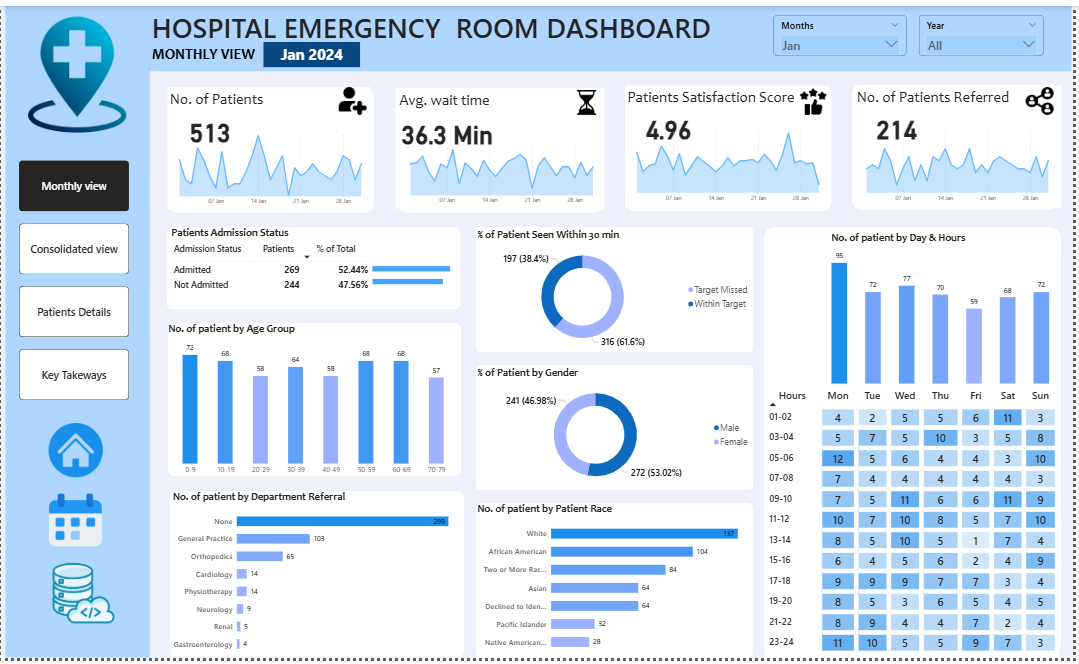

What the dashboard file says about the page in this screenshot:
{"tool":"powerbi","page":{"name":"Monthly view ","canvas":[2300,1400],"ordinal":0},"visuals":[{"type":"card","fields":{"Values":["Avg(Hospital ER_Data.Patient Satisfaction Score)"]},"box":[1341.3,220.8,180,81.5],"z":0,"group":"g3"},{"type":"card","fields":{"Values":["Date Table.No. of Patients Referred"]},"box":[1833.7,220.8,180,81.5],"z":0,"group":"g4"},{"type":"card","fields":{"Values":["Date Table.No. of patient"]},"box":[356.5,224.1,180,81.5],"z":0,"group":"g1"},{"type":"card","fields":{"Values":["Date Table.AVg Wait Time"]},"box":[846.5,232.4,220.7,78.1],"z":0,"group":"g2"},{"type":"shape","box":[1017.8,769.8,599.1,270.6],"z":0},{"type":"textbox","box":[1339.3,172.2,414.3,54.3],"z":1000,"group":"g3"},{"type":"textbox","box":[1834.8,172.2,441.4,57.7],"z":1000,"group":"g4"},{"type":"shape","box":[356.5,173.2,444.8,271.7],"z":1000},{"type":"textbox","box":[356.5,173.2,220.7,61.1],"z":1000,"group":"g1"},{"type":"textbox","box":[850.8,176.6,221.5,66.9],"z":1000,"group":"g2"},{"type":"areaChart","fields":{"Category":["Date Table.Date.Variation.Date Hierarchy.Year","Date Table.Date.Variation.Date Hierarchy.Quarter","Date Table.Date.Variation.Date Hierarchy.Month","Date Table.Date.Variation.Date Hierarchy.Day"],"Y":["Avg(Hospital ER_Data.Patient Satisfaction Score)"]},"box":[1342.9,259.9,434.6,173.2],"z":2000,"group":"g3"},{"type":"areaChart","fields":{"Category":["Date Table.Date.Variation.Date Hierarchy.Year","Date Table.Date.Variation.Date Hierarchy.Quarter","Date Table.Date.Variation.Date Hierarchy.Month","Date Table.Date.Variation.Date Hierarchy.Day"],"Y":["Date Table.No. of Patients Referred"]},"box":[1835.3,259.9,434.6,173.2],"z":2000,"group":"g4"},{"type":"areaChart","fields":{"Y":["Date Table.No. of patient"],"Category":["Date Table.Date.Variation.Date Hierarchy.Year","Date Table.Date.Variation.Date Hierarchy.Quarter","Date Table.Date.Variation.Date Hierarchy.Month","Date Table.Date.Variation.Date Hierarchy.Day"]},"box":[358.1,263.3,434.6,173.2],"z":2000,"group":"g1"},{"type":"areaChart","fields":{"Category":["Date Table.Date.Variation.Date Hierarchy.Year","Date Table.Date.Variation.Date Hierarchy.Quarter","Date Table.Date.Variation.Date Hierarchy.Month","Date Table.Date.Variation.Date Hierarchy.Day"],"Y":["Avg(Hospital ER_Data.Patient Waittime)"]},"box":[857.6,286,436.1,148.7],"z":2000,"group":"g2"},{"type":"shape","box":[360.7,1040.4,634.5,357.5],"z":2000},{"type":"shape","box":[10.2,0,310,1399],"z":3000},{"type":"shape","box":[319.2,0,1979.7,140],"z":4000},{"type":"textbox","box":[319.2,0,1229.2,98.5],"z":5000},{"type":"textbox","box":[319.2,78.1,247.9,57.7],"z":6000},{"type":"slicer","fields":{"Values":["Date Table.Year"]},"box":[1970,20,267.5,87.5],"z":7000},{"type":"slicer","fields":{"Values":["Date Table.Month"]},"box":[1657.5,20,285,87.5],"z":8000},{"type":"card","fields":{"Values":["Min(Date Table.Month & Year)"]},"box":[563.7,78.1,207.1,54.3],"z":9000},{"type":"group","id":"g1","title":"Group 1","box":[356.5,173.2,434.6,264.9],"z":10000},{"type":"shape","box":[848.9,173.2,444.8,271.7],"z":11000},{"type":"shape","box":[1341.3,169.8,444.8,271.7],"z":12000},{"type":"shape","box":[1826.9,166.4,444.8,271.7],"z":13000},{"type":"group","id":"g2","title":"Group 1","box":[846.5,176.6,447.2,258.1],"z":14000},{"type":"group","id":"g3","title":"Group 1","box":[1339.3,172.2,438.3,260.9],"z":15000},{"type":"shape","box":[354.3,475.1,634.2,179.5],"z":15000,"group":"g5"},{"type":"group","id":"g4","title":"Group 1","box":[1833.7,172.2,442.5,260.9],"z":16000},{"type":"pivotTable","title":"Patients Admission Status ","fields":{"Rows":["Hospital ER_Data.Admission Status"],"Values":["Date Table.No. of patient1","Date Table.No. of patient"]},"box":[360.8,473.5,657,177.2],"z":16000,"group":"g5"},{"type":"group","id":"g5","title":"Group 3","box":[354.3,473.5,663.5,180.4],"z":17000},{"type":"barChart","fields":{"Category":["Hospital ER_Data.Admission Status"],"Y":["Date Table.No. of patient"]},"box":[790.9,532.4,195.9,86.7],"z":17000,"group":"g5"},{"type":"clusteredBarChart","fields":{"Y":["Date Table.No. of patient"],"Category":["Hospital ER_Data.Department Referral"]},"box":[364,1040.4,631.3,360.7],"z":18000},{"type":"shape","box":[357.5,679.6,631.3,331.8],"z":19000},{"type":"clusteredColumnChart","fields":{"Y":["Date Table.No. of patient"],"Category":["Hospital ER_Data.Age Group"]},"box":[353.3,680,633.3,336.7],"z":20000},{"type":"shape","box":[1017.8,473.5,599.1,270.6],"z":21000},{"type":"donutChart","title":"% of Patient Seen Within 30 min","fields":{"Category":["Hospital ER_Data.Waittime Status"],"Y":["Date Table.No. of patient"]},"box":[1017.8,476.7,599.1,267.3],"z":22000},{"type":"donutChart","title":"% of Patient by Gender","fields":{"Y":["Date Table.No. of patient"],"Category":["Hospital ER_Data.Patient Gender"]},"box":[1017.8,773,599.1,267.3],"z":23000},{"type":"shape","box":[1017.8,1066.1,599.1,335],"z":24000},{"type":"clusteredBarChart","fields":{"Y":["Date Table.No. of patient"],"Category":["Hospital ER_Data.Patient Race"]},"box":[1017.8,1066.1,599.1,331.8],"z":25000},{"type":"shape","box":[1636.2,473.5,641,924.4],"z":26000},{"type":"pivotTable","fields":{"Rows":["Hospital ER_Data.Waittime Interval"],"Columns":["Date Table.Day Name"],"Values":["Date Table.No. of patient"]},"box":[1640,815,632.5,585],"z":27000},{"type":"columnChart","title":"No. of patient by Day & Hours","fields":{"Category":["Date Table.Day Name"],"Y":["Date Table.No. of patient"]},"box":[1776.7,483.3,480,333.3],"z":28000},{"type":"image","box":[40,10,250,275],"z":29000},{"type":"pageNavigator","box":[40,333.3,236.7,516.7],"z":30000},{"type":"image","box":[713.3,173.3,86.7,60],"z":31000},{"type":"image","box":[2190,173.3,80,60],"z":32000},{"type":"image","box":[1710,176.7,66.7,56.7],"z":33000},{"type":"image","box":[1220,180,73.3,53.3],"z":34000},{"type":"image","box":[90,896.7,140,116.7],"z":35000},{"type":"image","box":[103.3,1190,150,146.7],"z":36000},{"type":"image","box":[103.3,1040,113.3,126.7],"z":37000}]}

Visuals, with their boxes in screenshot pixels (x1, y1, x2, y2), scaled from the page's 2300x1400 canvas onto the 1079x664 screenshot:
card - Avg(Hospital ER_Data.Patient Satisfaction Score): (629, 105, 714, 143)
card - Date Table.No. of Patients Referred: (860, 105, 945, 143)
card - Date Table.No. of patient: (167, 106, 252, 145)
card - Date Table.AVg Wait Time: (397, 110, 501, 147)
shape: (477, 365, 759, 493)
textbox: (628, 82, 823, 107)
textbox: (861, 82, 1068, 109)
shape: (167, 82, 376, 211)
textbox: (167, 82, 271, 111)
textbox: (399, 84, 503, 115)
areaChart - Date Table.Date.Variation.Date Hierarchy.Year x Date Table.Date.Variation.Date Hierarchy.Quarter: (630, 123, 834, 205)
areaChart - Date Table.Date.Variation.Date Hierarchy.Year x Date Table.Date.Variation.Date Hierarchy.Quarter: (861, 123, 1065, 205)
areaChart - Date Table.No. of patient x Date Table.Date.Variation.Date Hierarchy.Year: (168, 125, 372, 207)
areaChart - Date Table.Date.Variation.Date Hierarchy.Year x Date Table.Date.Variation.Date Hierarchy.Quarter: (402, 136, 607, 206)
shape: (169, 493, 467, 663)
shape: (5, 0, 150, 663)
shape: (150, 0, 1078, 66)
textbox: (150, 0, 726, 47)
textbox: (150, 37, 266, 64)
slicer - Date Table.Year: (924, 9, 1050, 51)
slicer - Date Table.Month: (778, 9, 911, 51)
card - Min(Date Table.Month & Year): (264, 37, 362, 63)
"Group 1" group: (167, 82, 371, 208)
shape: (398, 82, 607, 211)
shape: (629, 81, 838, 209)
shape: (857, 79, 1066, 208)
"Group 1" group: (397, 84, 607, 206)
"Group 1" group: (628, 82, 834, 205)
shape: (166, 225, 464, 310)
"Group 1" group: (860, 82, 1068, 205)
"Patients Admission Status " pivotTable: (169, 225, 477, 309)
"Group 3" group: (166, 225, 477, 310)
barChart - Hospital ER_Data.Admission Status x Date Table.No. of patient: (371, 253, 463, 294)
clusteredBarChart - Date Table.No. of patient x Hospital ER_Data.Department Referral: (171, 493, 467, 663)
shape: (168, 322, 464, 480)
clusteredColumnChart - Date Table.No. of patient x Hospital ER_Data.Age Group: (166, 323, 463, 482)
shape: (477, 225, 759, 353)
"% of Patient Seen Within 30 min" donutChart: (477, 226, 759, 353)
"% of Patient by Gender" donutChart: (477, 367, 759, 493)
shape: (477, 506, 759, 663)
clusteredBarChart - Date Table.No. of patient x Hospital ER_Data.Patient Race: (477, 506, 759, 663)
shape: (768, 225, 1068, 663)
pivotTable - Hospital ER_Data.Waittime Interval x Date Table.Day Name: (769, 387, 1066, 663)
"No. of patient by Day & Hours" columnChart: (834, 229, 1059, 387)
image: (19, 5, 136, 135)
pageNavigator: (19, 158, 130, 403)
image: (335, 82, 375, 111)
image: (1027, 82, 1065, 111)
image: (802, 84, 834, 111)
image: (572, 85, 607, 111)
image: (42, 425, 108, 481)
image: (48, 564, 119, 634)
image: (48, 493, 102, 553)
